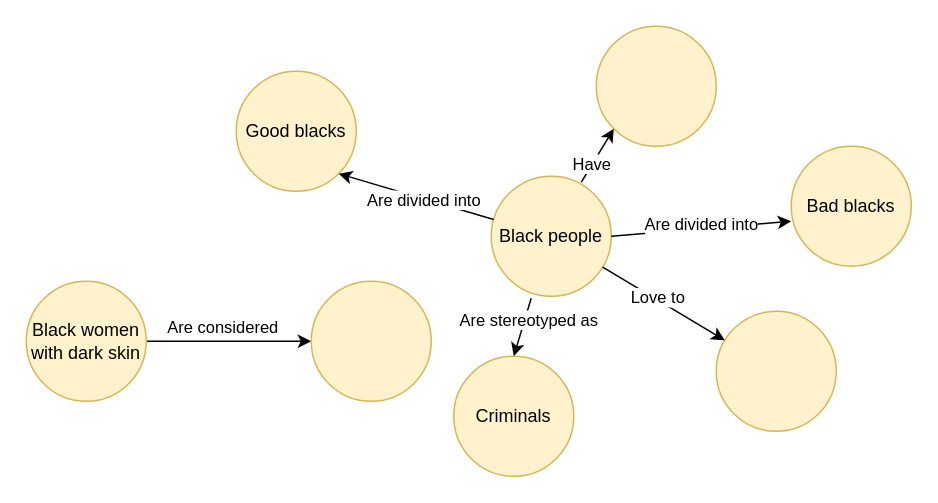
Image size: 938x503. Some labels were removed from this diagram. The centre of each missing label's shape, as x and y in pixels:
"Dark skin" goes at [655,85].
"Sing" goes at [775,370].
"Ugly" goes at [370,340].
